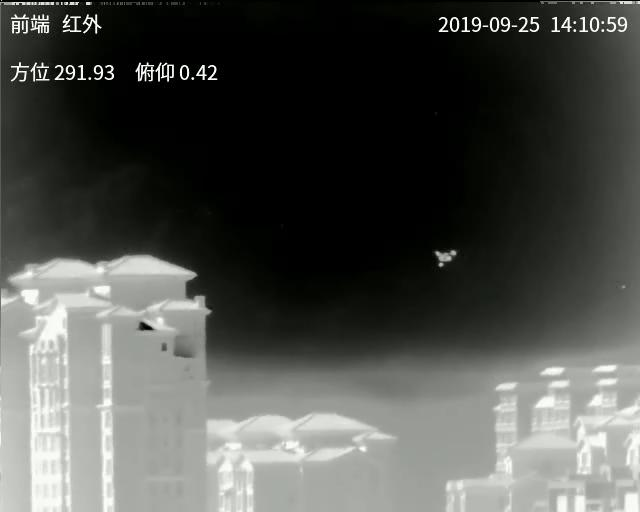uav: (433, 243, 457, 270)
